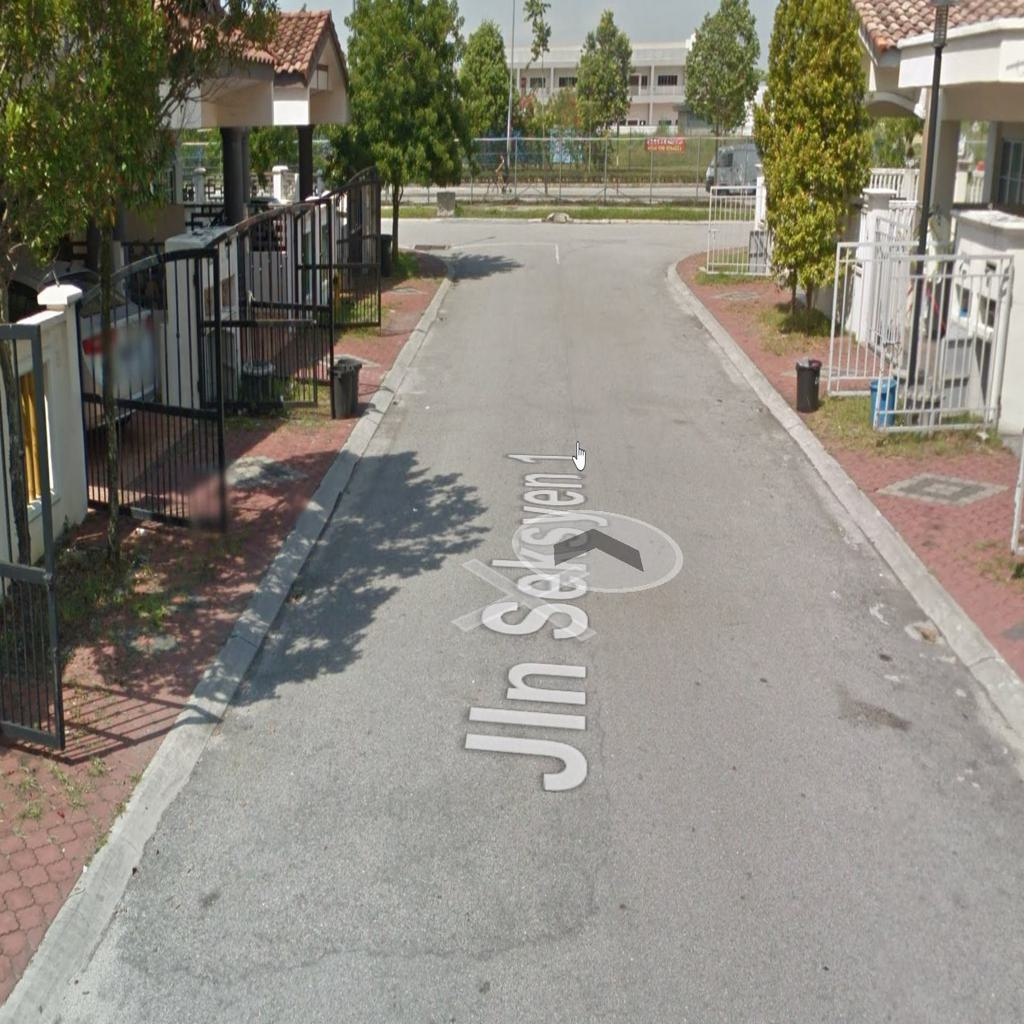Junction: (617, 190, 758, 282), (377, 194, 482, 268)
